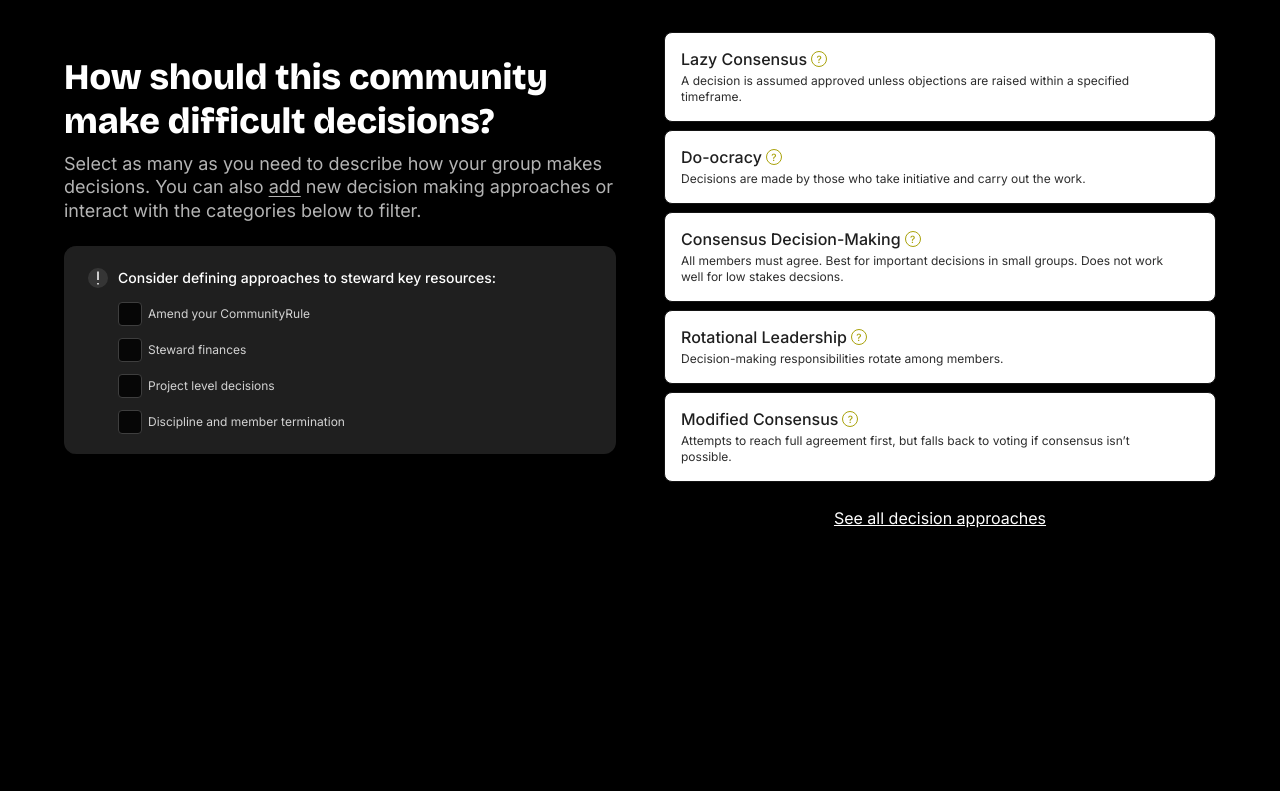
it: Create flow decision-approaches page › expanded view reveals additional non-recommended approaches
The image size is (1280, 791).
Click the button "See all decision approaches" at (940, 518), box x1=834 y1=506 x2=1046 y2=530
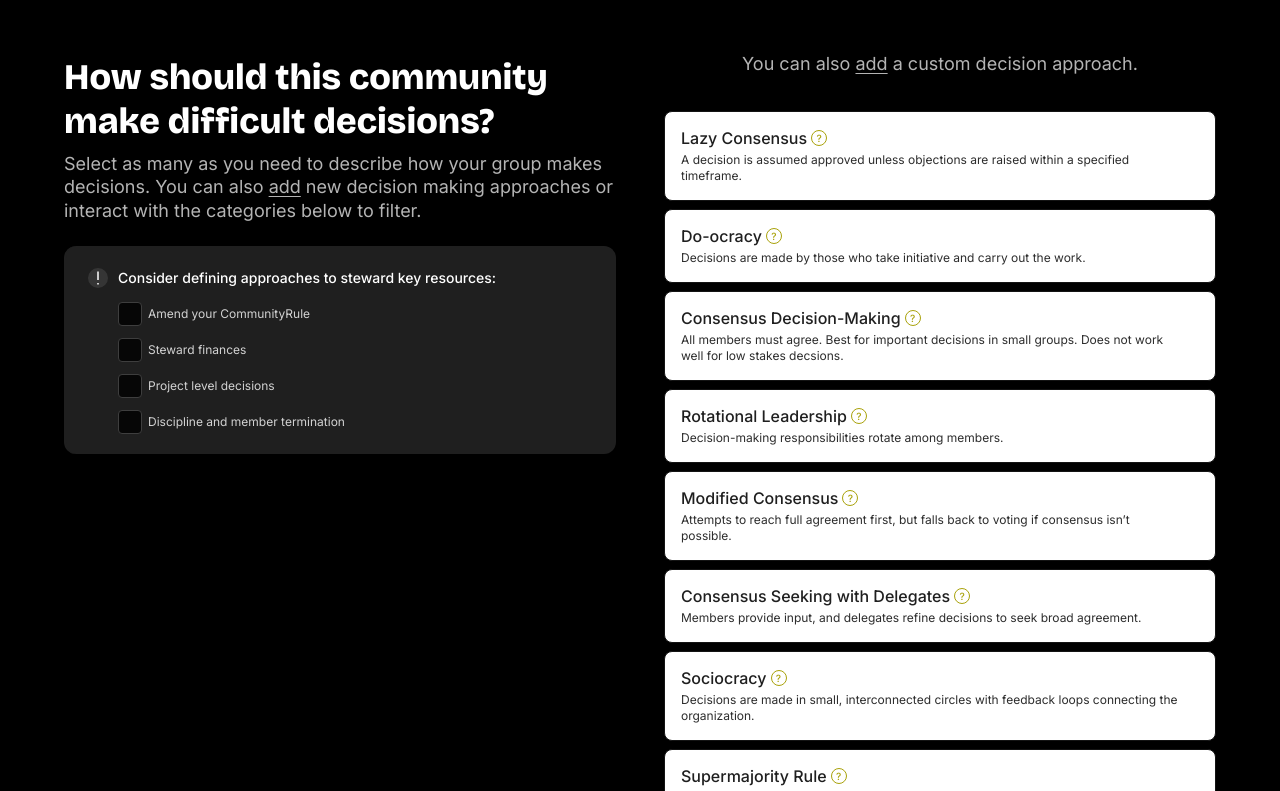
Expected: the button with aria-label "Sociocracy:" is shown, x1=664 y1=651 x2=1216 y2=741
